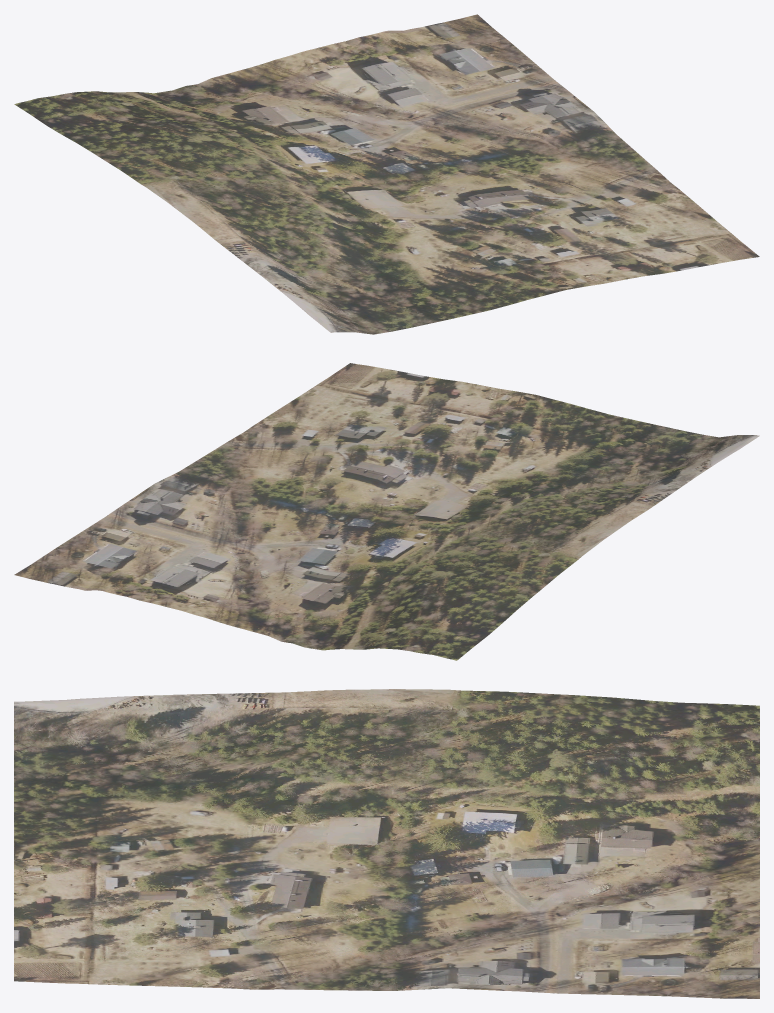
The model's file is CM_Terrain_24493940_6816108.fbx.
The picture shows the model from 3 angles, top to bottom: view 1: azimuth 30°, elevation 25°; view 2: azimuth 150°, elevation 25°; view 3: azimuth 270°, elevation 25°; orthographic projection. The views are drawn at different scales.
Visible parts, largest first — view 1: CM_Terrain_24493940_6816108_LOD0; view 2: CM_Terrain_24493940_6816108_LOD0; view 3: CM_Terrain_24493940_6816108_LOD0.
Part boxes in pixels (x1=…): CM_Terrain_24493940_6816108_LOD0: x1=14, y1=14, x2=759, y2=334; CM_Terrain_24493940_6816108_LOD0: x1=14, y1=363, x2=759, y2=660; CM_Terrain_24493940_6816108_LOD0: x1=14, y1=689, x2=759, y2=998.
Size of what is drawn, in the model's own units: 173 by 14.6 by 205.
